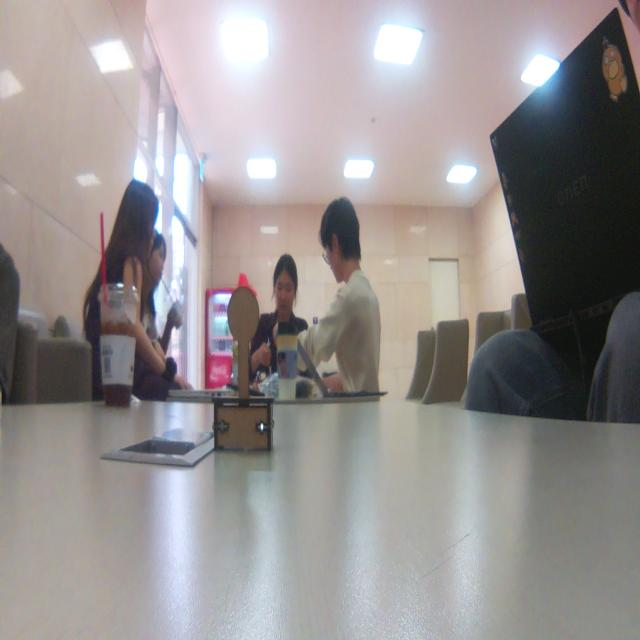target: (212, 285, 273, 453)
